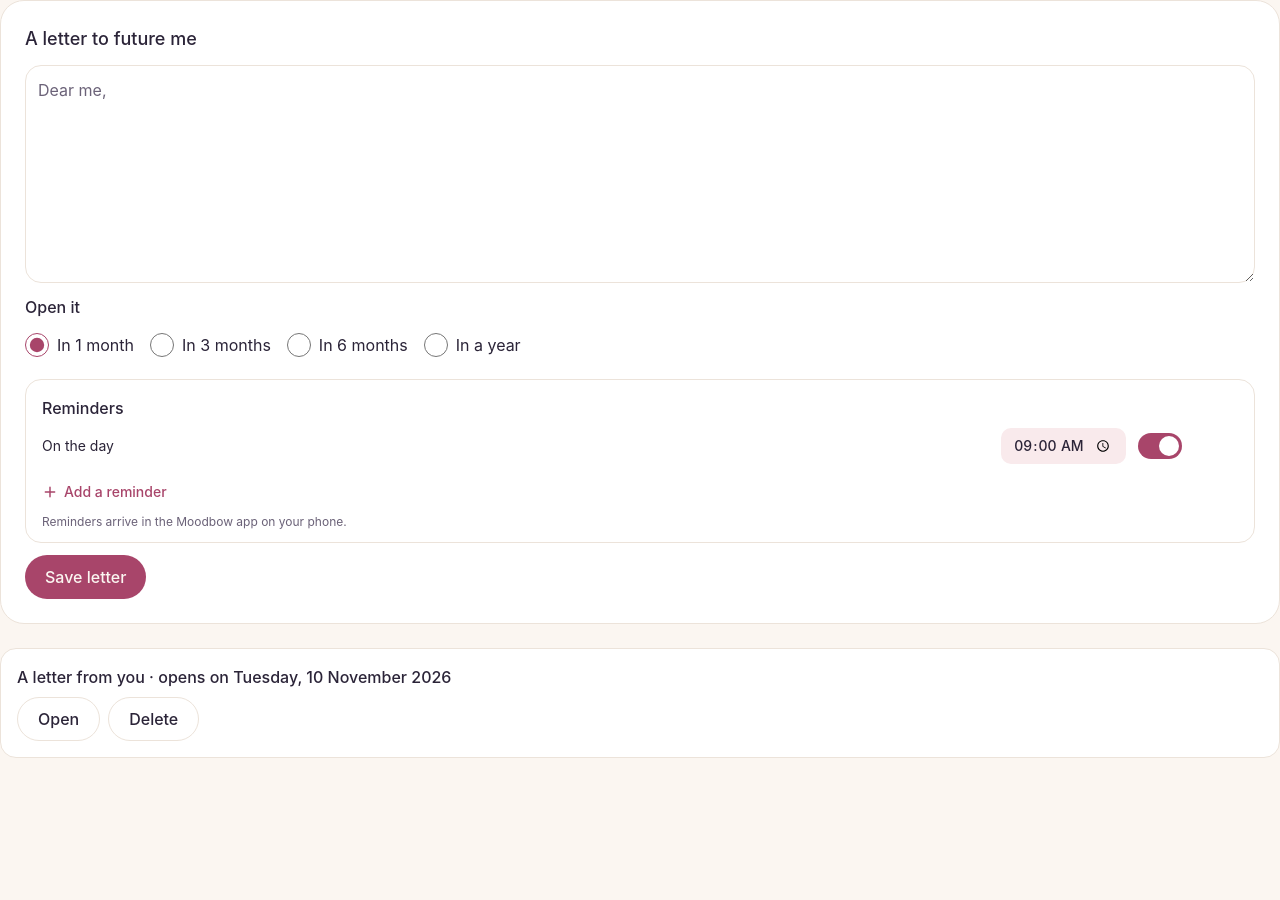
Test case: LettersEditor: the open-early confirm only before its day (L2) › opens on 2026-11-10, today 2026-11-10: Open opens, no confirm
Click the button with test id "letter-open". click: point(59, 719)
box: [17,697,100,741]
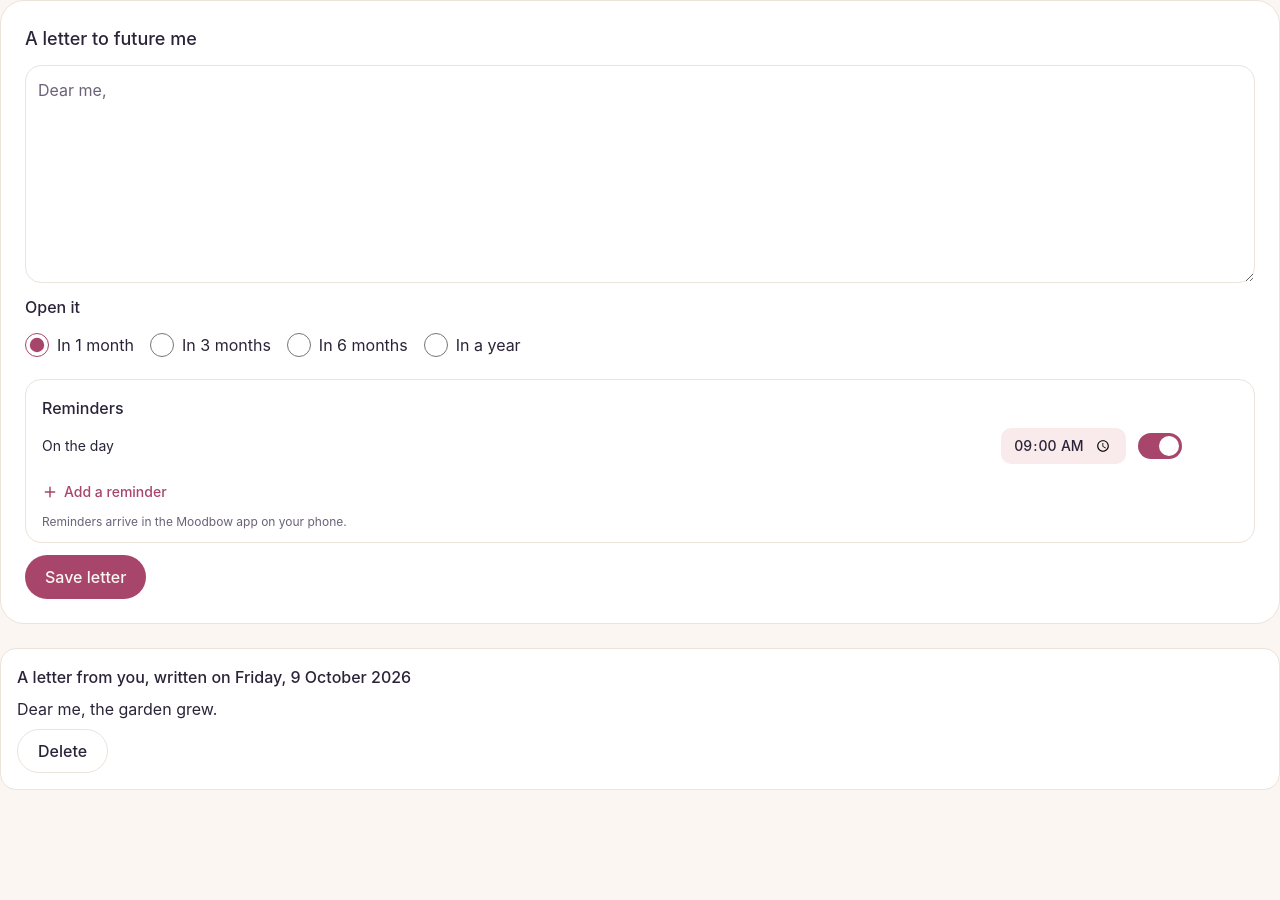
Expected: the text with test id "letter-body" shows "the garden grew.", [17,699,217,719]
